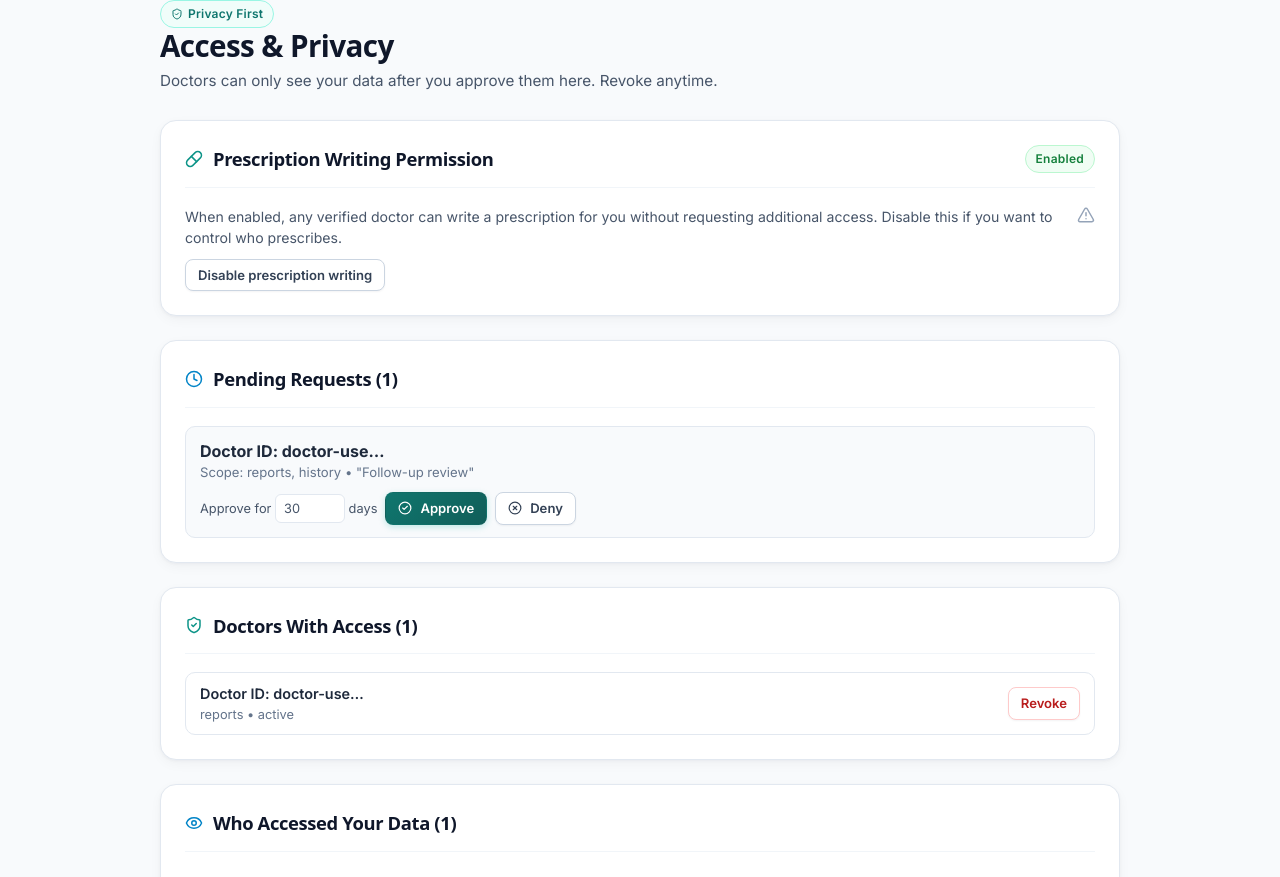
Test case: Access & Privacy flow › toggles the prescription writing permission
What coordinates should you click on to do the following:
click the button "Disable prescription writing"
I would click on:
 (285, 275)
Its box is [185,258,385,291].
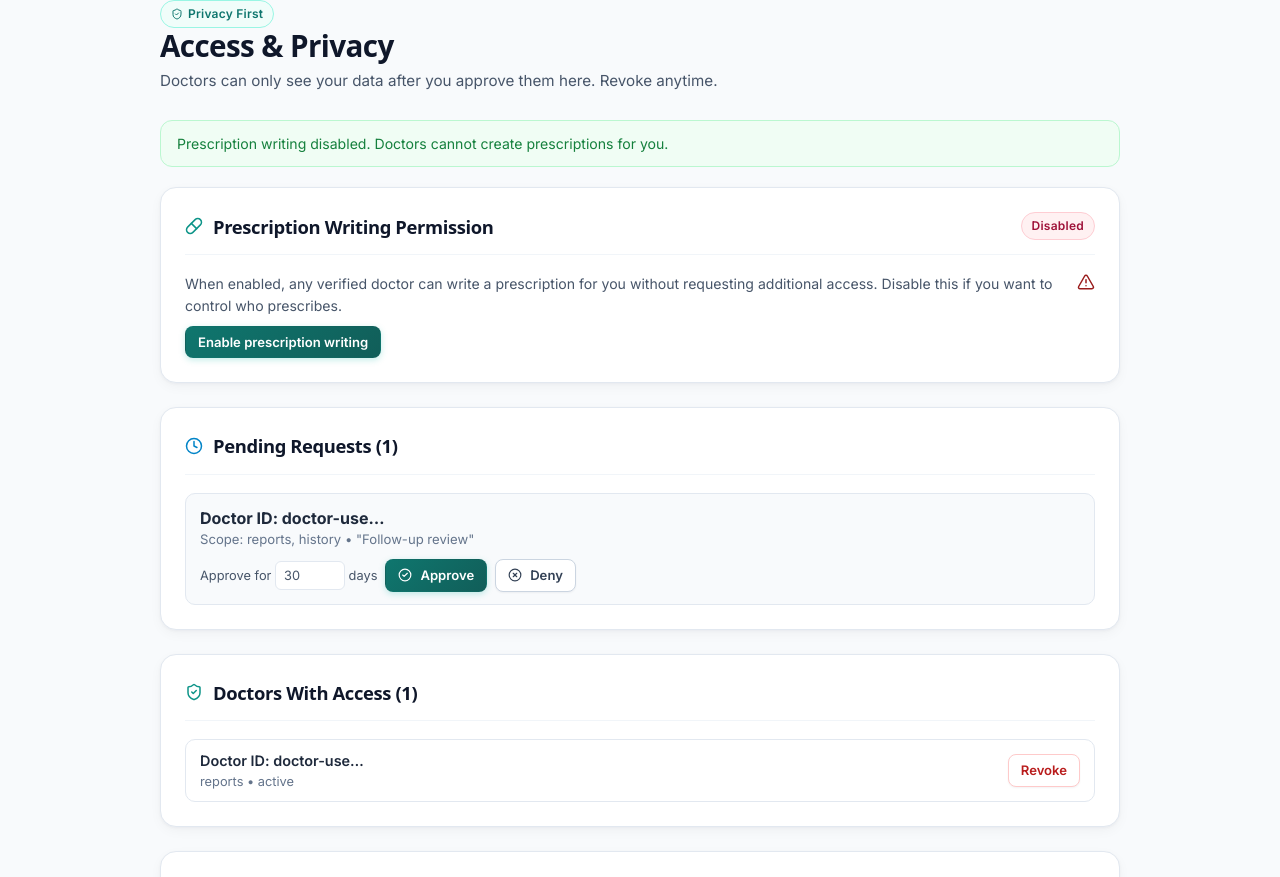
Check: the text "Prescription writing disabled" is shown, box [177,135,668,152]
